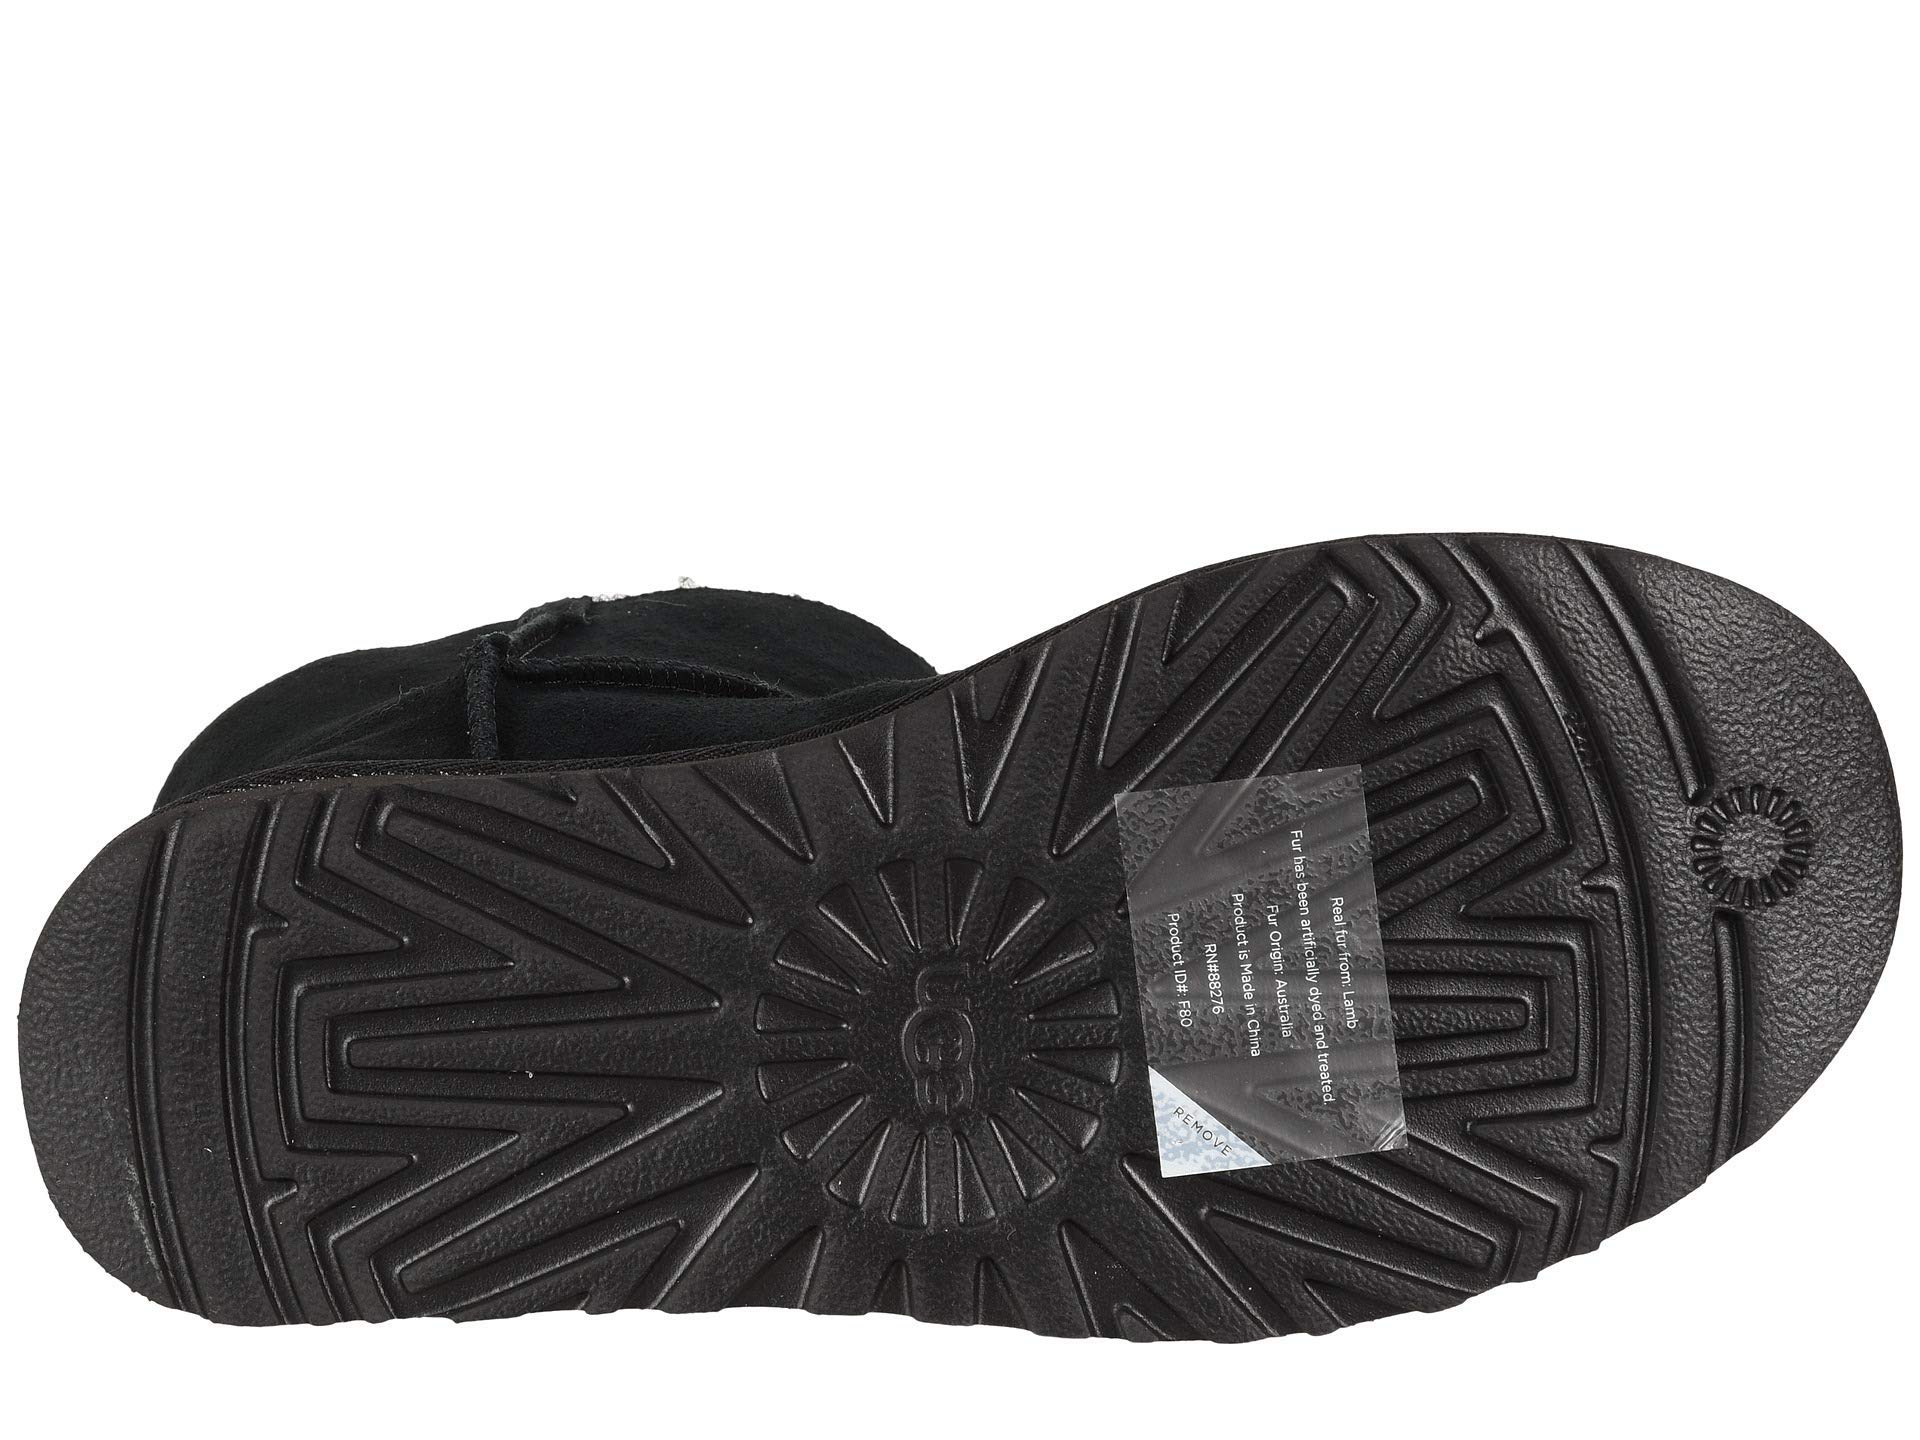circle: (1615, 740, 1838, 980)
exclude: (1098, 740, 1429, 1186)
line: (1615, 740, 1838, 980)
star: (1615, 740, 1838, 980)
triangle: (1615, 740, 1838, 980)
